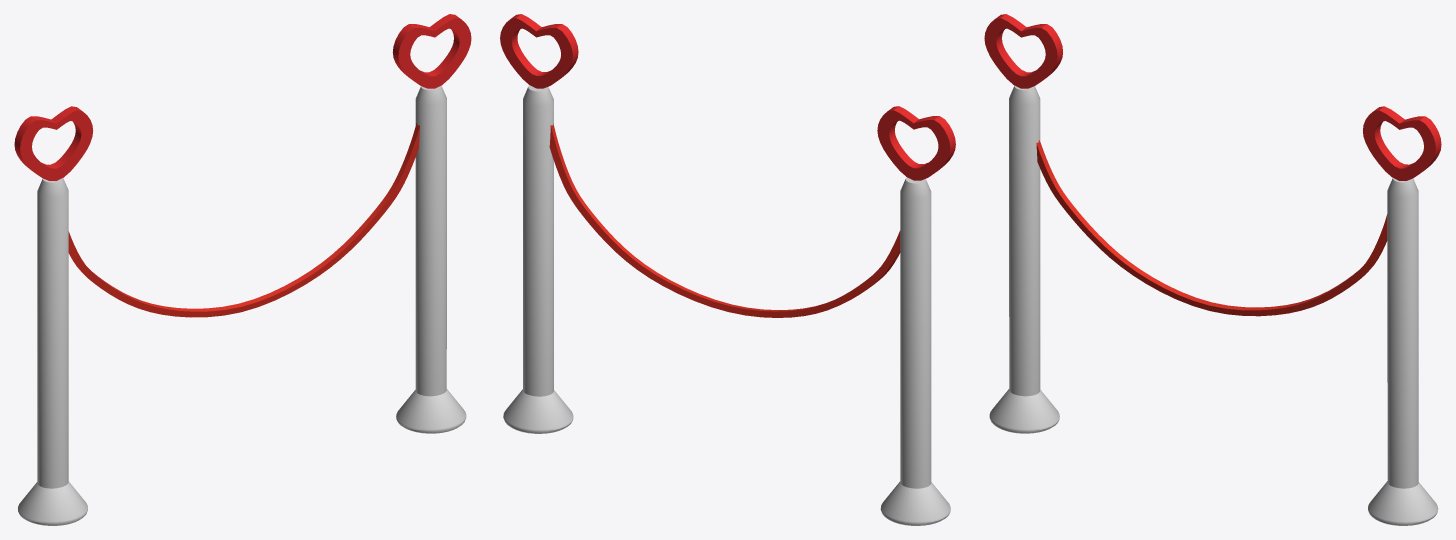
The model's file is Border_003.fbx.
The picture shows the model from 3 angles, left to right: view 1: azimuth 30°, elevation 25°; view 2: azimuth 150°, elevation 25°; view 3: azimuth 330°, elevation 25°; orthographic projection.
Visible parts, largest first — view 1: Border_003; view 2: Border_003; view 3: Border_003.
Boxes of the visible parts, x1,y1,x2,y2 form: Border_003: [14, 14, 471, 525]; Border_003: [500, 14, 955, 525]; Border_003: [984, 14, 1441, 525].
Bounding box in the file's own units: 262 × 222 × 34.69.
